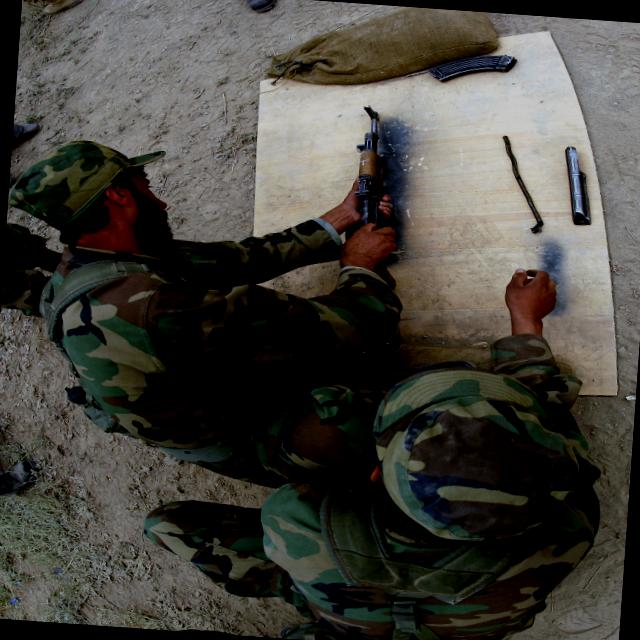long weapon: (340, 105, 412, 260)
